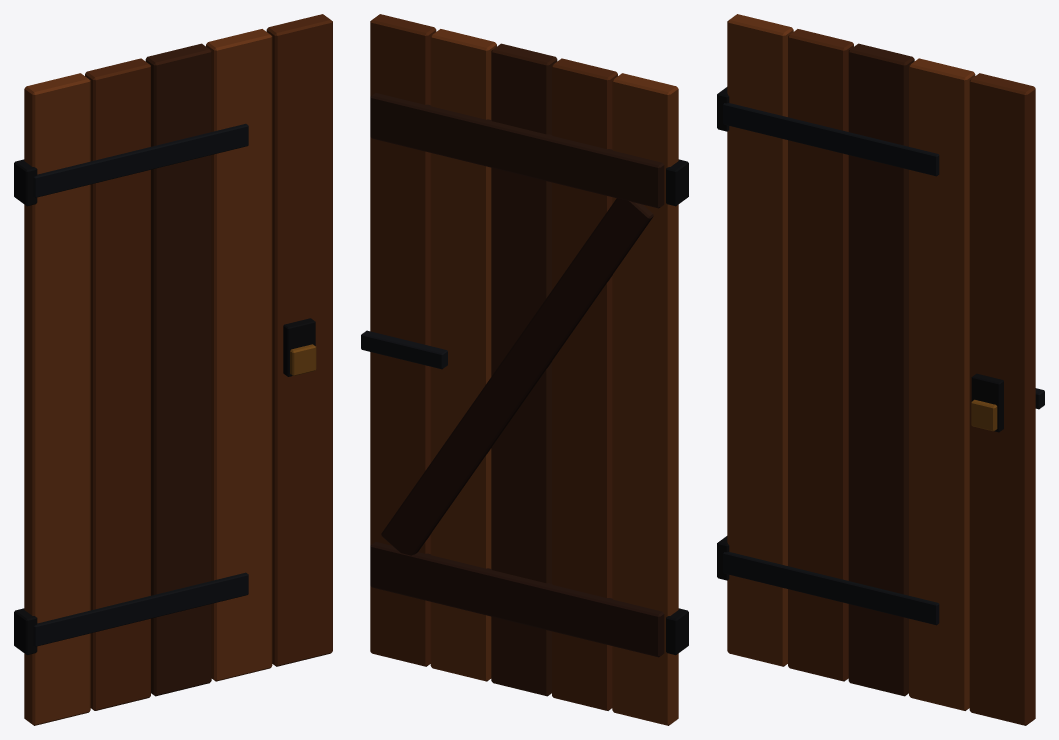
The model's file is mod_hinged_door_leaf.glb.
3 views of the same model, side by side, from view 1: azimuth 30°, elevation 25°; view 2: azimuth 150°, elevation 25°; view 3: azimuth 330°, elevation 25° (orthographic).
Parts seen in each view (by area): view 1: Mod_Hinged_Door_Leaf; view 2: Mod_Hinged_Door_Leaf; view 3: Mod_Hinged_Door_Leaf.
Part boxes in pixels (x1,y1,x2,y2): Mod_Hinged_Door_Leaf: [14, 14, 332, 725]; Mod_Hinged_Door_Leaf: [361, 14, 688, 725]; Mod_Hinged_Door_Leaf: [717, 14, 1044, 725].
Size of the model in its own units: 0.983 by 1.92 by 0.138.
